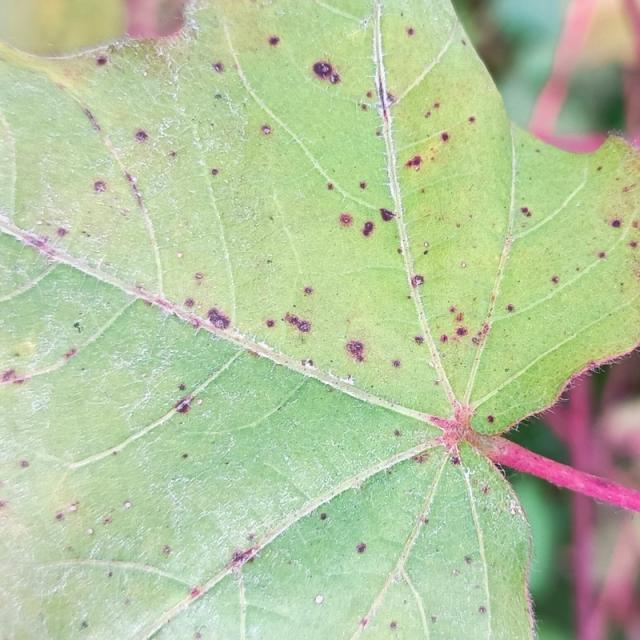Bacterial_Blight: (408, 130, 455, 173), (339, 330, 369, 368), (121, 169, 147, 208), (284, 312, 312, 334), (206, 307, 232, 330), (8, 340, 36, 360), (231, 546, 258, 566), (55, 502, 80, 522), (82, 107, 101, 132), (312, 60, 335, 80), (174, 394, 196, 414), (510, 202, 534, 220), (29, 235, 53, 253), (470, 322, 490, 343), (376, 90, 397, 108), (404, 155, 422, 172), (1, 369, 18, 384), (123, 171, 137, 187), (410, 274, 425, 288), (379, 208, 395, 221), (412, 453, 430, 464), (362, 221, 375, 236), (339, 213, 353, 226), (93, 180, 107, 193), (134, 129, 148, 141), (622, 183, 637, 193), (64, 348, 77, 359), (356, 542, 367, 554), (212, 62, 224, 73), (380, 106, 389, 120), (184, 297, 195, 308), (261, 124, 272, 135), (190, 587, 201, 598), (268, 36, 280, 46), (56, 227, 68, 237), (96, 56, 108, 66), (414, 335, 425, 345), (79, 620, 89, 631), (456, 327, 468, 336), (301, 358, 313, 367), (450, 455, 460, 465), (103, 515, 113, 525), (611, 219, 622, 228), (73, 321, 82, 332), (505, 304, 515, 313), (265, 319, 275, 328), (455, 312, 464, 322), (162, 545, 171, 555), (55, 512, 65, 521), (0, 499, 9, 509), (392, 359, 401, 368), (304, 286, 313, 295), (464, 555, 473, 564), (439, 334, 448, 343), (481, 485, 490, 494), (315, 595, 324, 604), (441, 132, 449, 142), (19, 460, 29, 468), (194, 272, 204, 280), (486, 415, 495, 423), (597, 251, 606, 259), (406, 27, 414, 36), (168, 150, 177, 158), (628, 240, 637, 248), (360, 617, 368, 626), (551, 276, 559, 284), (211, 168, 219, 176), (359, 181, 367, 189), (178, 383, 186, 391), (478, 606, 486, 614), (471, 337, 479, 345), (247, 533, 255, 541), (451, 568, 459, 576), (124, 598, 132, 606), (69, 504, 77, 512), (390, 621, 397, 630), (214, 93, 223, 100), (320, 512, 327, 520), (393, 429, 401, 436), (468, 116, 476, 123), (360, 104, 368, 111), (124, 501, 131, 509), (327, 183, 334, 190), (423, 518, 430, 525), (430, 616, 437, 623), (86, 528, 93, 535), (181, 453, 189, 459), (107, 570, 113, 578), (434, 102, 440, 109), (461, 39, 467, 46), (111, 450, 118, 456), (597, 166, 603, 172), (397, 248, 403, 254), (177, 252, 183, 258), (194, 636, 202, 640), (423, 249, 428, 255), (461, 262, 466, 268), (424, 242, 429, 247)
Cotton: (0, 0, 639, 639)
